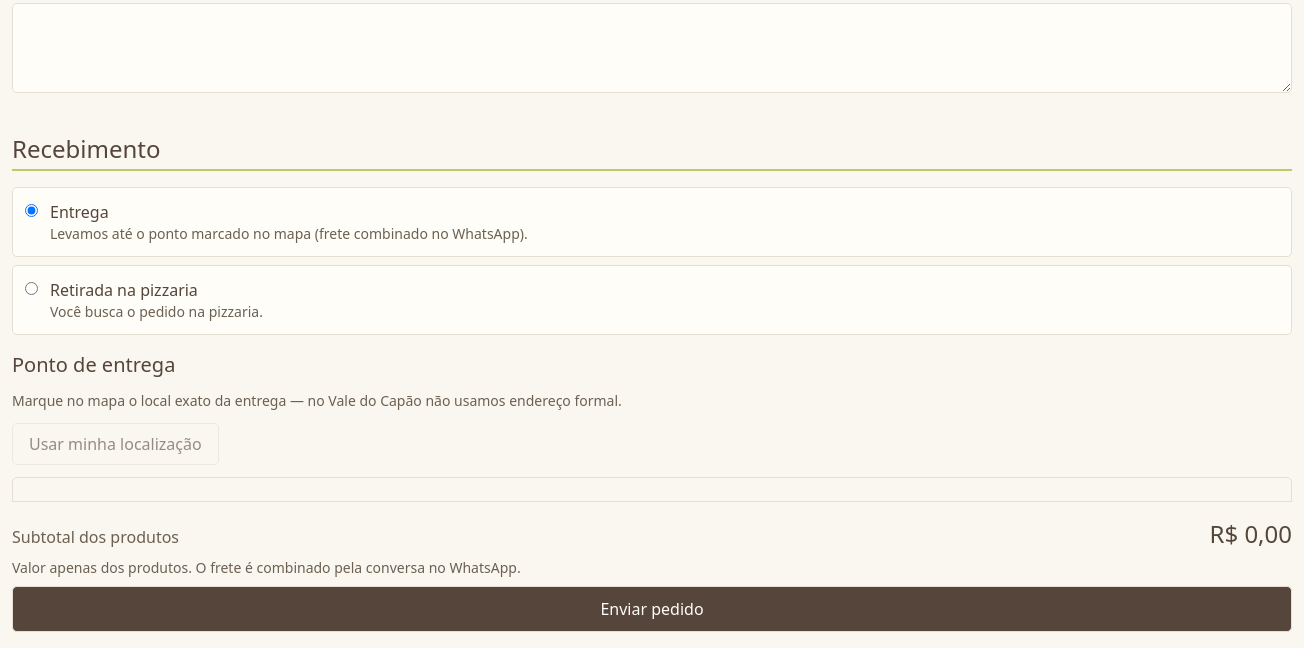
Scenario: <PedidoPimentaForm> › retirada: esconde o mapa e não envia coordenadas
(page scrolled)
Click the radio button labelled "Retirada na pizzaria Você busca o pedido na pizzaria." at (32, 288), box [25,282,38,295]
(page scrolled)
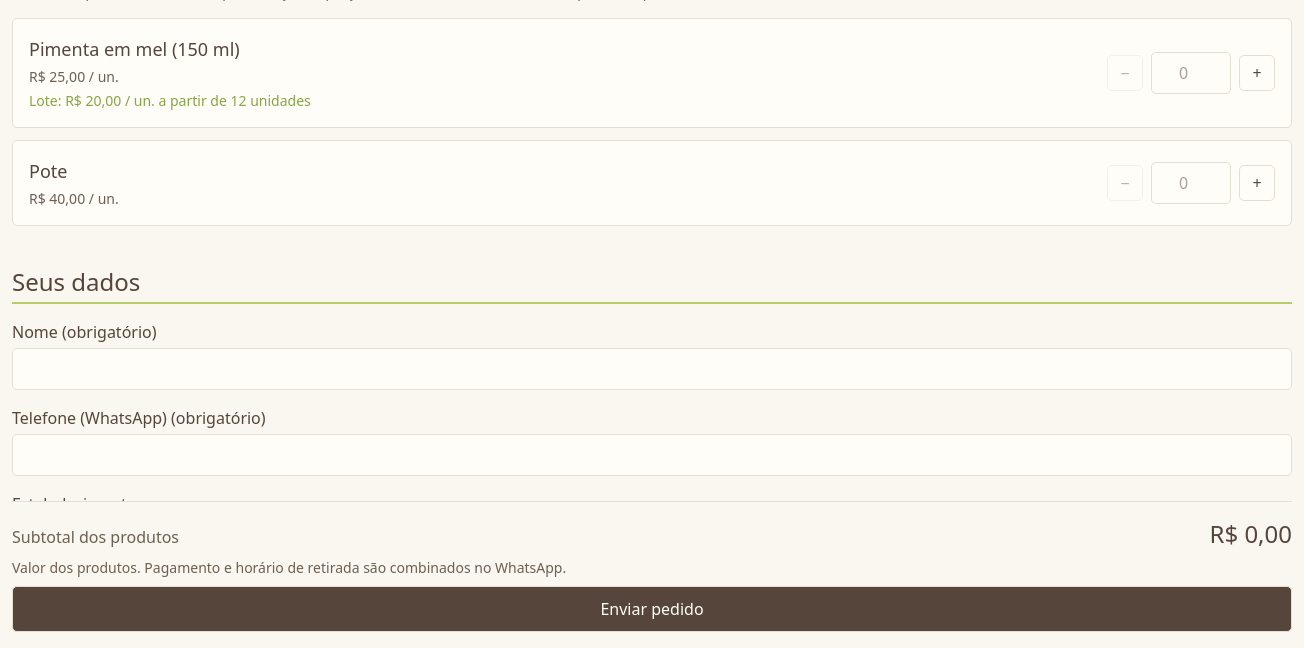
Click the button named "Aumentar quantidade de Pote" at (1257, 183), box [1239,165,1275,201]
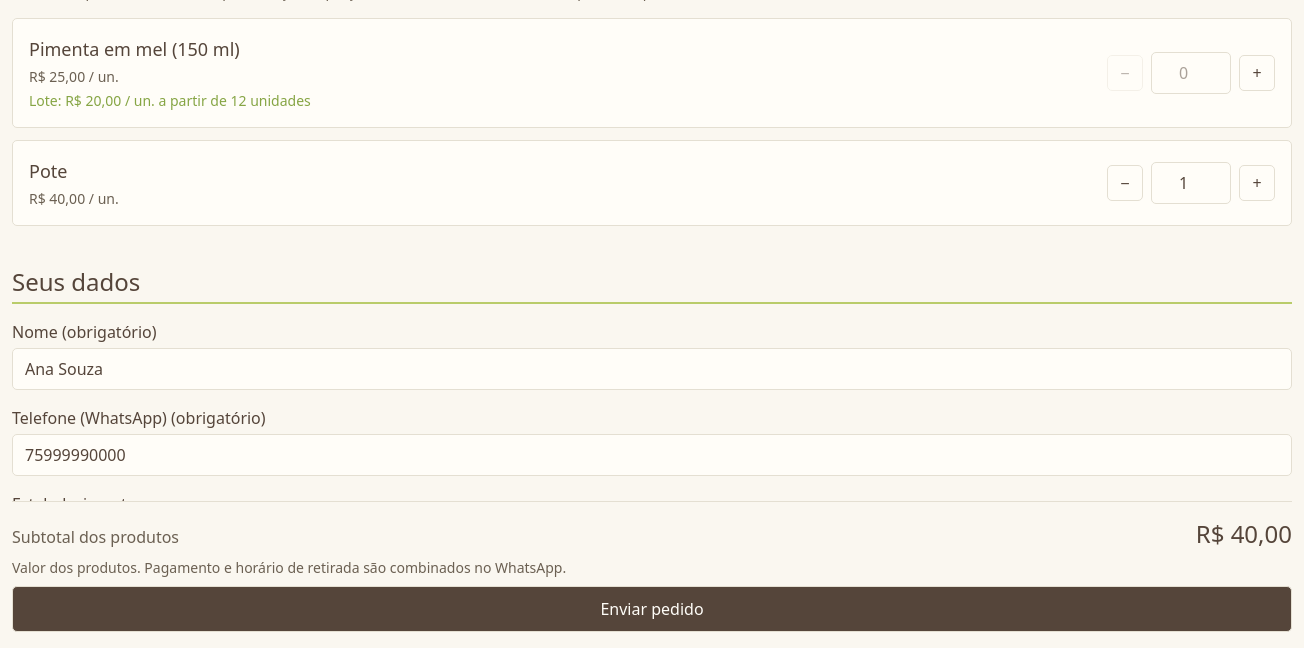
Now the field labelled "Telefone (WhatsApp) (obrigatório)" holds "75999990000", box [12,434,1292,476]
Click the button "Enviar pedido" at (652, 609), box [12,586,1292,632]
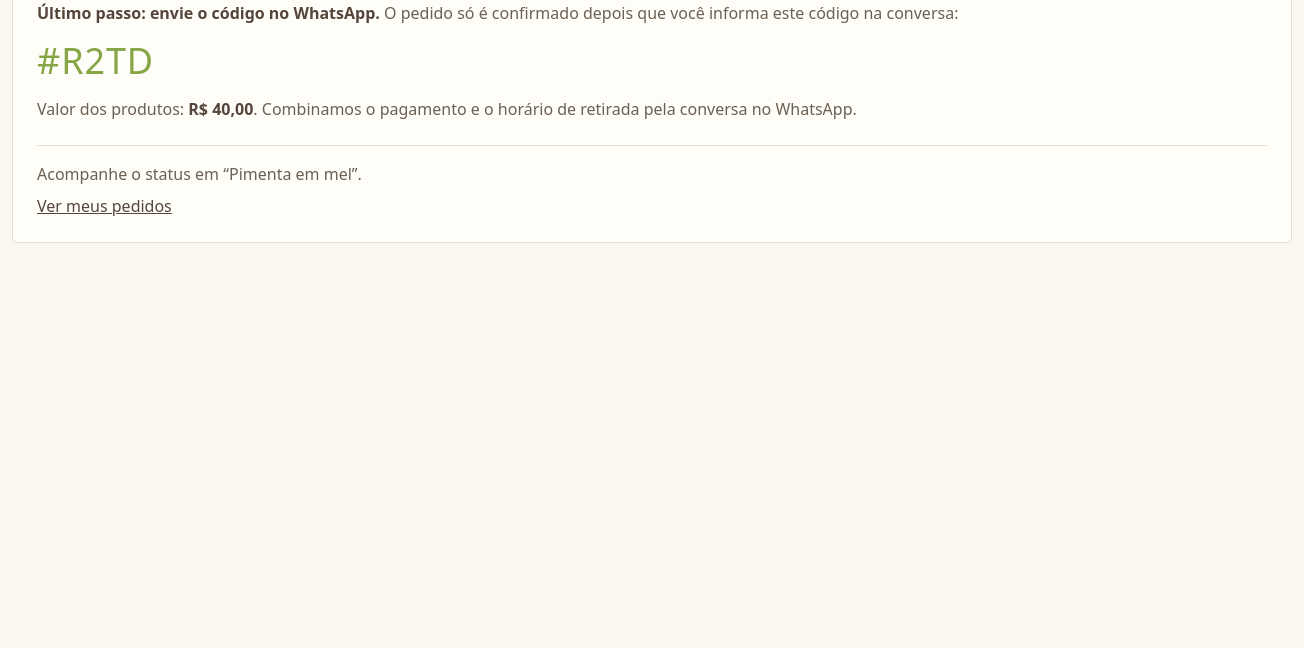
Now the text "#R2TD" is shown, box [37,36,154,85]
